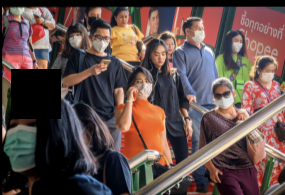with_mask: (3, 112, 38, 172), (132, 76, 154, 100), (213, 89, 235, 110), (91, 32, 111, 54), (190, 23, 207, 44), (68, 31, 84, 49), (260, 67, 277, 83), (87, 11, 103, 27), (231, 36, 245, 53), (9, 7, 26, 16)
without_mask: (151, 49, 168, 66), (116, 12, 130, 27), (165, 40, 176, 54)
